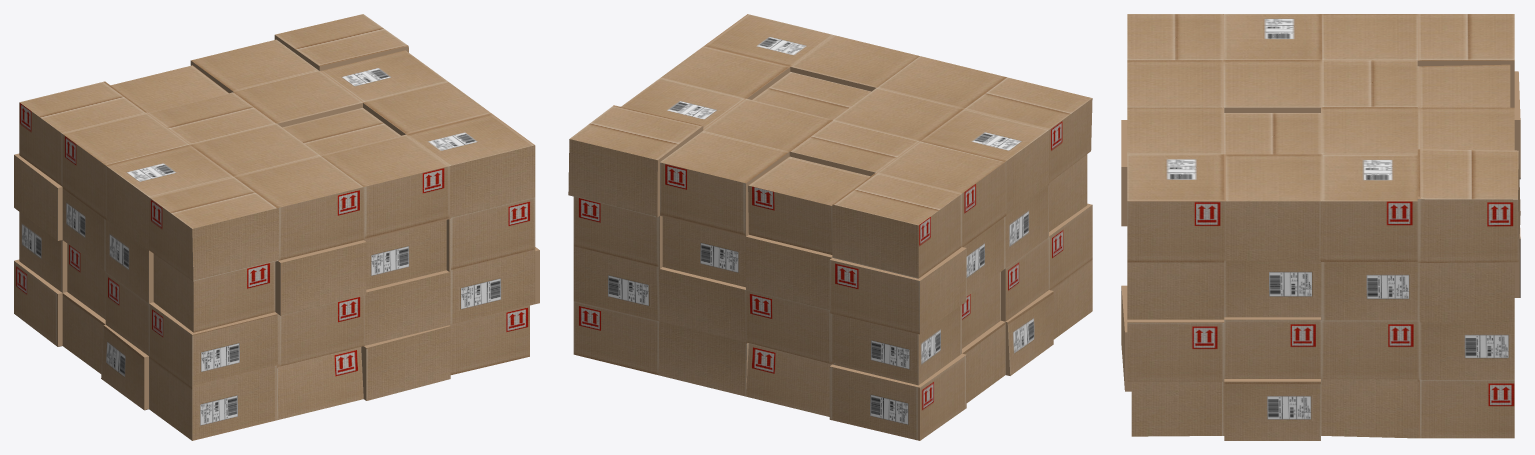
The model's file is Box_PalletGroup.FBX.
3 renders of one model, left to right at view 1: azimuth 30°, elevation 25°; view 2: azimuth 150°, elevation 25°; view 3: azimuth 270°, elevation 25°, orthographic. The views are drawn at different scales.
Parts seen in each view (by area): view 1: Box_PalletGroup; view 2: Box_PalletGroup; view 3: Box_PalletGroup.
Boxes of the visible parts, x1,y1,x2,y2 form: Box_PalletGroup: (14,14,539,440); Box_PalletGroup: (568,14,1092,440); Box_PalletGroup: (1121,14,1520,440).
Bounding box in the file's own units: 2.74 × 1.61 × 2.4.
